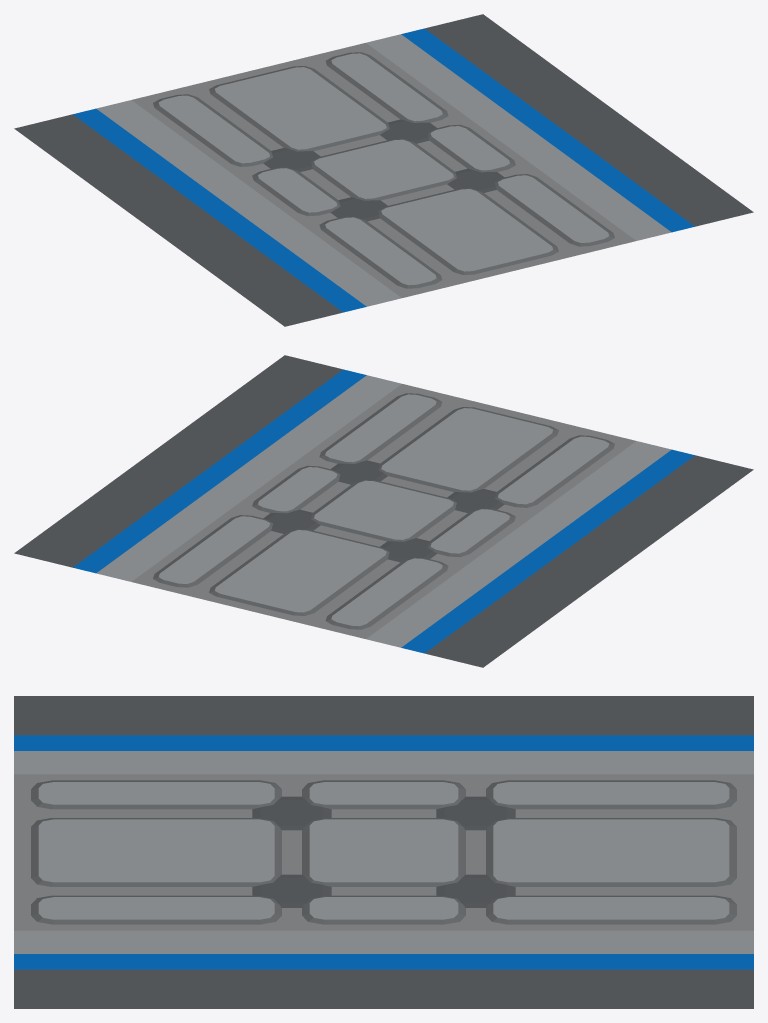
File: Floor_type_B_019.013.fbx
The picture shows the model from 3 angles, top to bottom: view 1: azimuth 30°, elevation 25°; view 2: azimuth 150°, elevation 25°; view 3: azimuth 270°, elevation 25°; orthographic projection. The views are drawn at different scales.
Parts seen in each view (by area): view 1: Floor_type_B_019.013; view 2: Floor_type_B_019.013; view 3: Floor_type_B_019.013.
Boxes of the visible parts, box(x1,y1,x2,y2) form: Floor_type_B_019.013: box(14, 14, 753, 326); Floor_type_B_019.013: box(14, 355, 753, 667); Floor_type_B_019.013: box(14, 696, 753, 1008).
Bounding box in the file's own units: 400 × 400 × 1.34.
